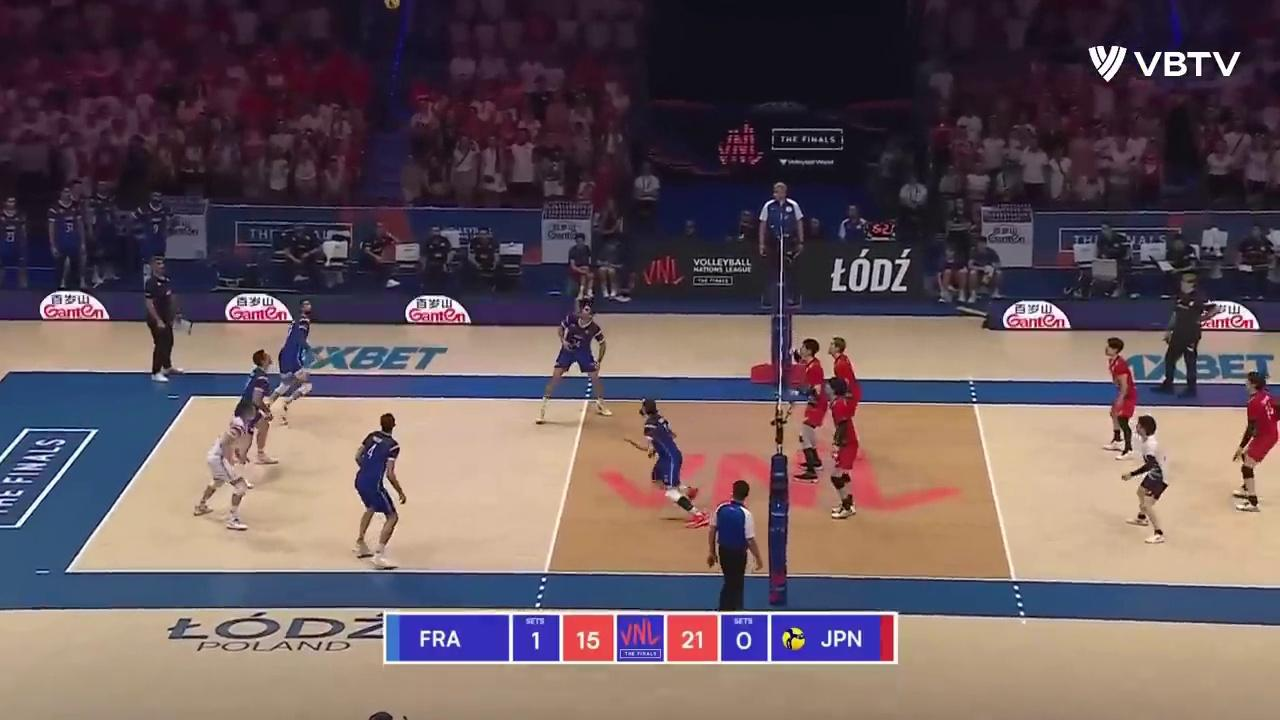ball: (382, 0, 402, 10)
